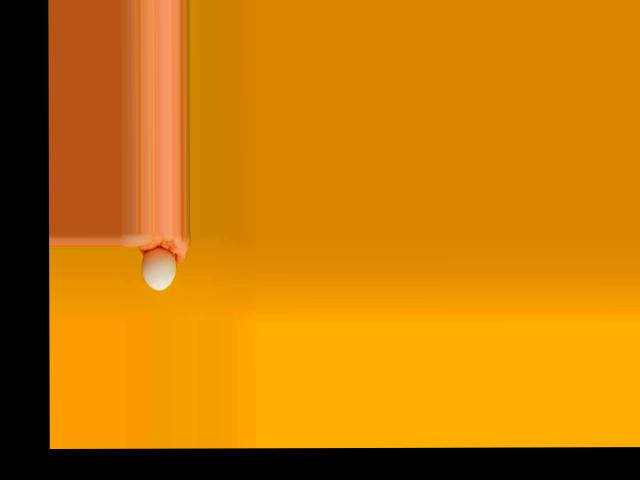egg: (143, 246, 176, 290)
